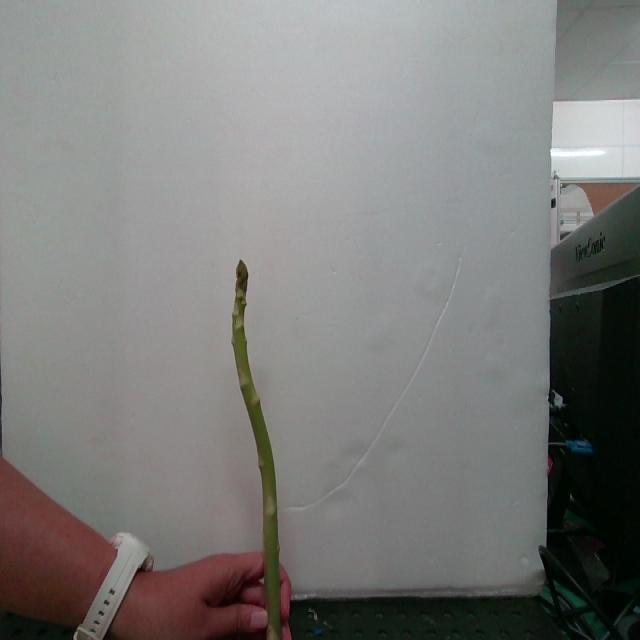aspargus: (231, 263, 290, 640)
